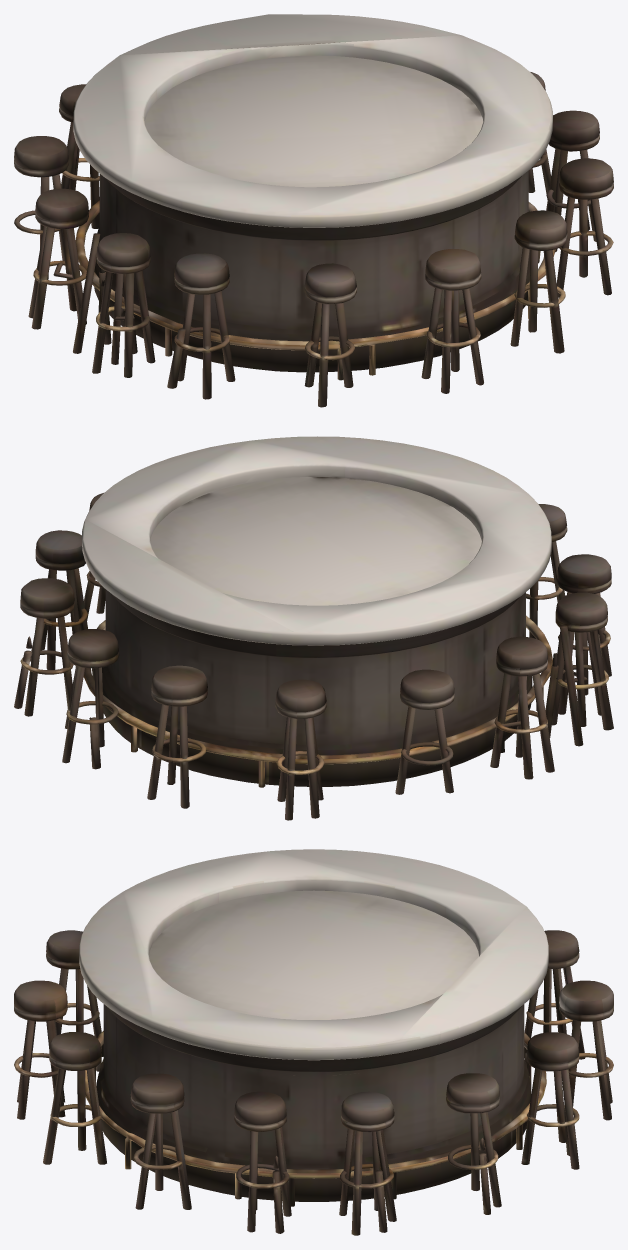
File: bar_counter_curved_caaaa975_v4.glb
3 renders of one model, top to bottom at view 1: azimuth 30°, elevation 25°; view 2: azimuth 150°, elevation 25°; view 3: azimuth 270°, elevation 25°, orthographic. The views are drawn at different scales.
Parts seen in each view (by area): view 1: mesh_input; view 2: mesh_input; view 3: mesh_input.
Boxes of the visible parts, x1,y1,x2,y2 form: mesh_input: (14, 14, 613, 407); mesh_input: (14, 436, 613, 820); mesh_input: (14, 849, 613, 1235).
Size of the model in its own units: 1.88 by 0.5701 by 1.9.
1 material, 1 textured.
